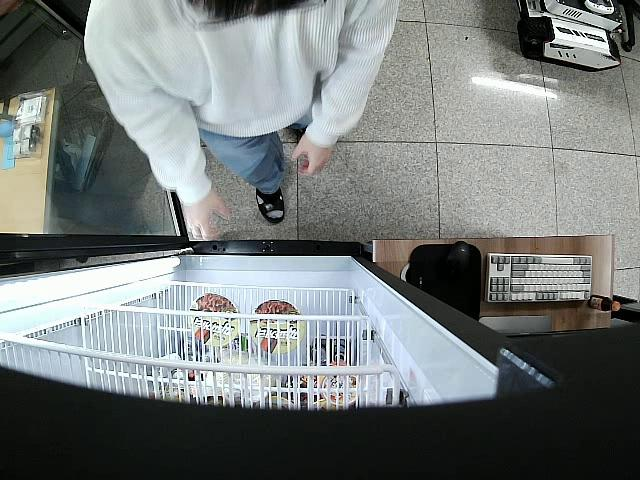00_hand: (177, 187, 235, 241), (291, 133, 334, 175)
